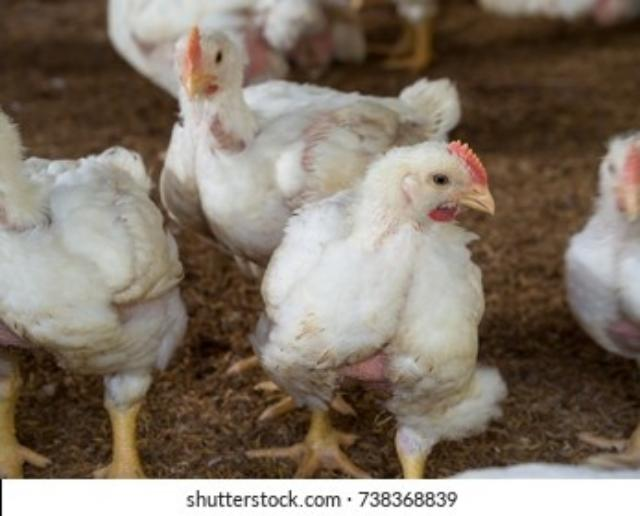Chicken: (245, 140, 508, 478), (158, 26, 461, 278), (0, 112, 187, 479), (562, 131, 640, 361)
